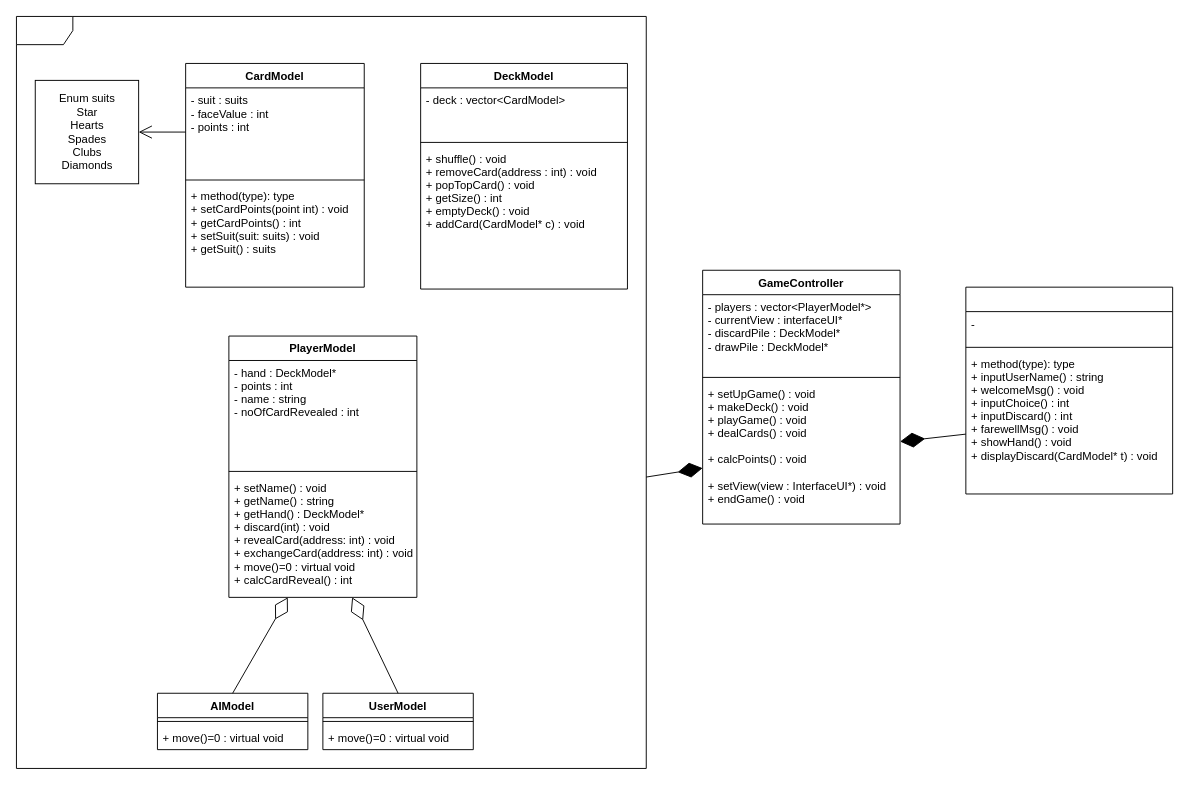
Image size: 1189x785. Some labels were removed from this diagram. The shapes that lost their labels are listed below. From the top down, each one's box as (x1, y1, x2, y2) in pixels, then its label:
(16, 16, 646, 768): frame
(965, 286, 1173, 494): View
